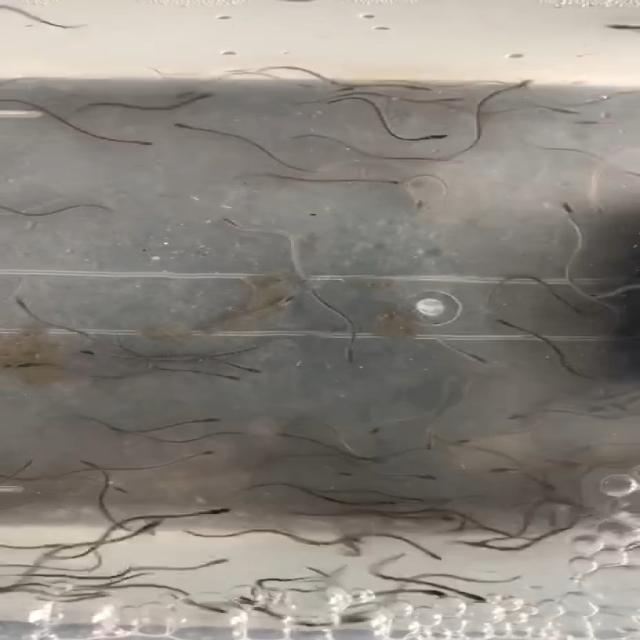active_glass_eel: (215, 211, 251, 233), (6, 356, 60, 370), (186, 411, 229, 427), (500, 75, 540, 92), (556, 201, 585, 224), (462, 347, 498, 365), (397, 471, 442, 485), (199, 505, 235, 521), (171, 122, 212, 136), (485, 464, 531, 476), (506, 405, 540, 421), (414, 584, 446, 601), (414, 434, 444, 452), (456, 589, 492, 604), (232, 362, 268, 376), (363, 420, 391, 438), (76, 349, 114, 362), (100, 482, 137, 495), (456, 432, 488, 447), (340, 345, 363, 365), (589, 193, 608, 217), (420, 546, 448, 562), (7, 295, 34, 311), (370, 175, 409, 186), (420, 130, 455, 142), (184, 90, 214, 104), (202, 556, 237, 568), (576, 119, 626, 127), (604, 22, 640, 33), (396, 84, 440, 93), (487, 314, 517, 327), (276, 292, 300, 308), (182, 448, 220, 458), (328, 466, 357, 479), (549, 105, 583, 116), (215, 371, 246, 383), (431, 95, 470, 104), (399, 493, 430, 504), (124, 138, 156, 148), (76, 459, 101, 471)
